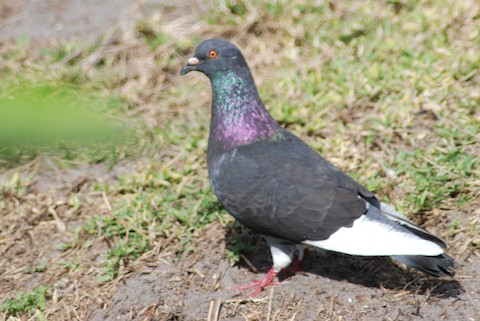pigeon: (175, 36, 461, 303)
